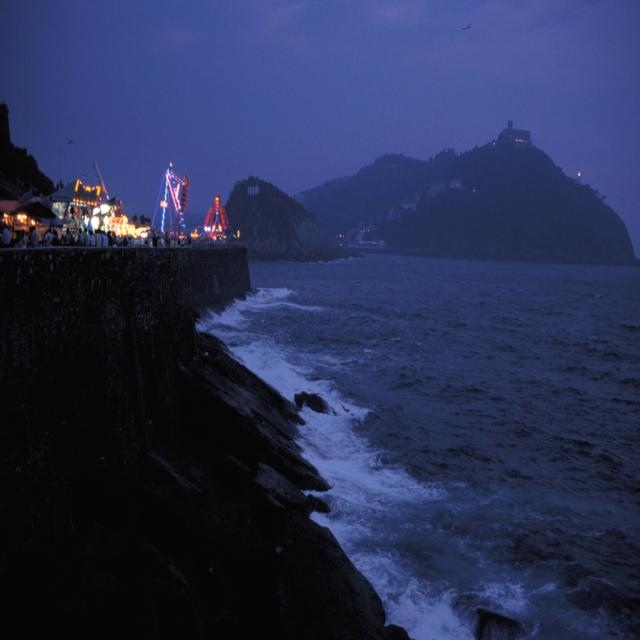Boat: (8, 152, 264, 339)
